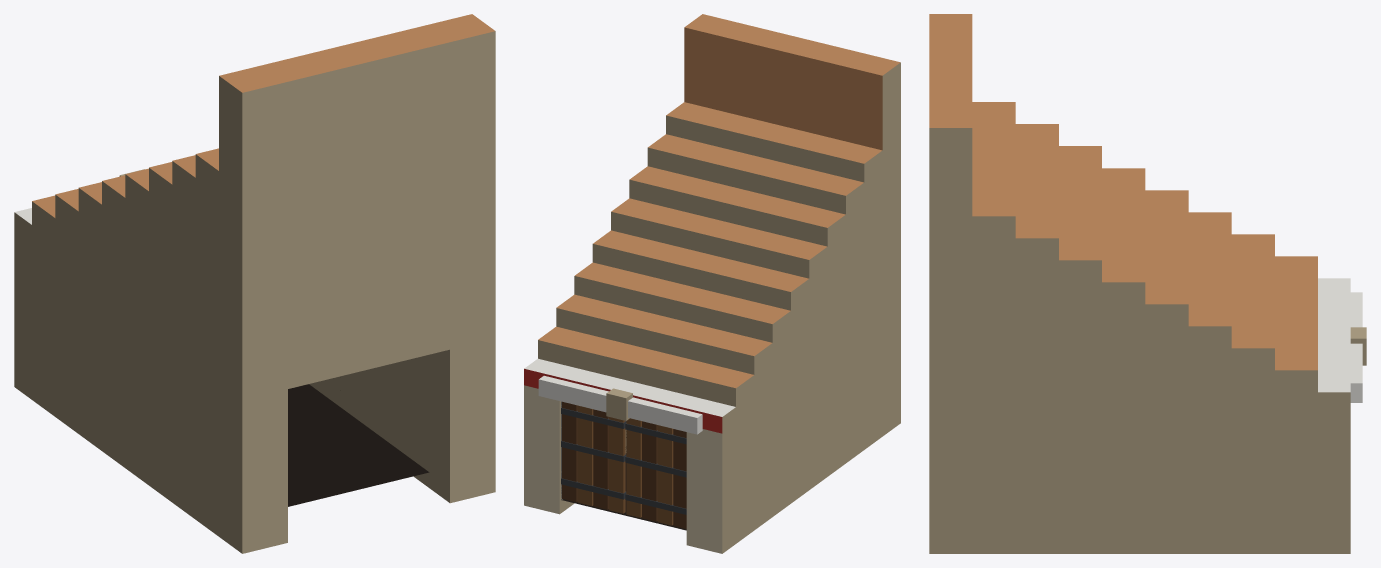
The model's file is SM_AmphiTunnel.fbx.
3 views of the same model, side by side, from view 1: azimuth 30°, elevation 25°; view 2: azimuth 150°, elevation 25°; view 3: azimuth 270°, elevation 25° (orthographic). The views are drawn at different scales.
Visible parts, largest first — view 1: SM_AmphiTunnel_Seats; view 2: SM_AmphiTunnel_Seats, DoorL.001, DoorR.001; view 3: SM_AmphiTunnel_Seats.
Boxes of the visible parts, x1,y1,x2,y2 form: SM_AmphiTunnel_Seats: (14, 14, 495, 553); SM_AmphiTunnel_Seats: (524, 14, 900, 553); DoorL.001: (561, 401, 626, 513); DoorR.001: (625, 418, 686, 528); SM_AmphiTunnel_Seats: (929, 14, 1366, 553).
Size of the model in its own units: 5 by 8.1 by 8.7.
